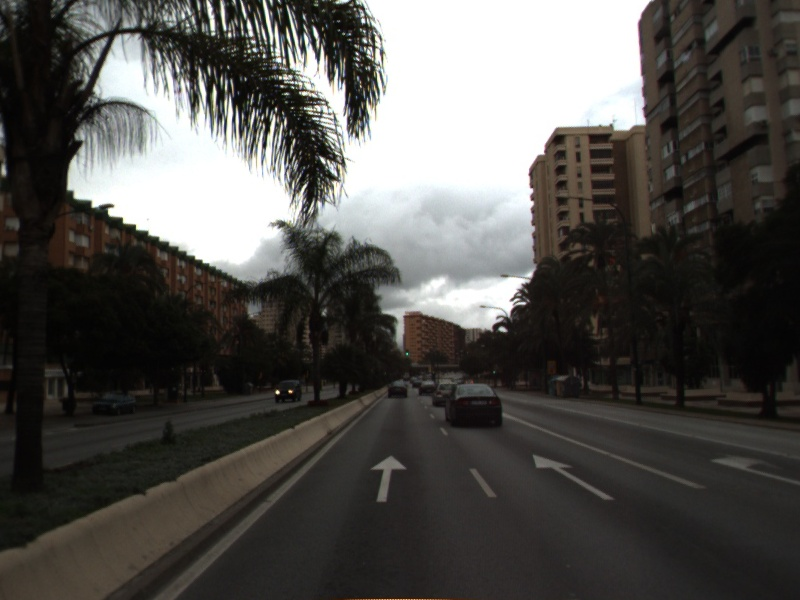RIGHT: (708, 450, 800, 486)
STRAIGHT: (531, 452, 618, 502), (368, 453, 409, 504)
